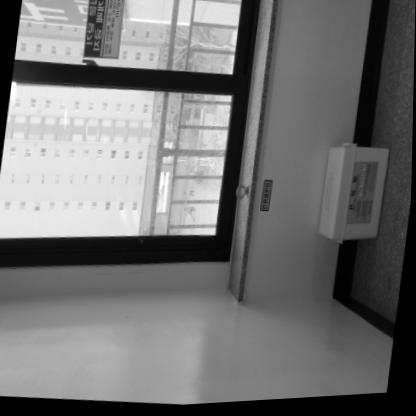DDL: (315, 147, 387, 249)
